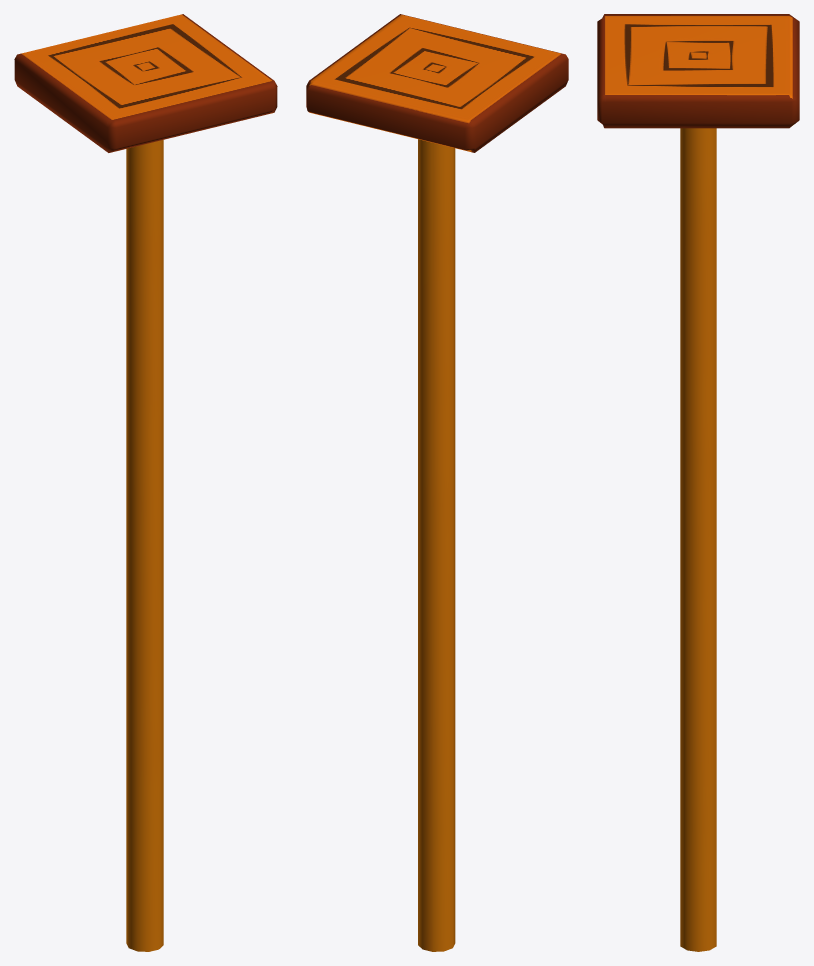
Rendered from BlockWoodWithBar.fbx.
3 renders of one model, left to right at view 1: azimuth 30°, elevation 25°; view 2: azimuth 150°, elevation 25°; view 3: azimuth 270°, elevation 25°, orthographic.
Visible parts, largest first — view 1: BlockWood1, BlockWood2; view 2: BlockWood1, BlockWood2; view 3: BlockWood1, BlockWood2.
Boxes of the visible parts, <box> form: BlockWood1: <box>126,140,163,951</box>; BlockWood2: <box>14,14,277,152</box>; BlockWood1: <box>418,139,455,951</box>; BlockWood2: <box>306,14,568,152</box>; BlockWood1: <box>680,128,716,951</box>; BlockWood2: <box>597,14,799,128</box>.
Bounding box in the file's own units: 1.44 × 7.1 × 1.46.
Materials: 1 (1 with a texture image).
